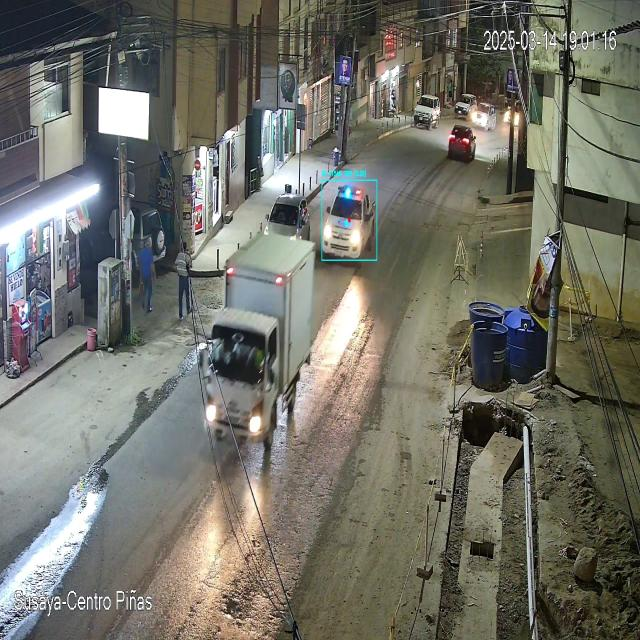CMT: (323, 185, 375, 257)
TRUCK: (206, 233, 316, 451)
